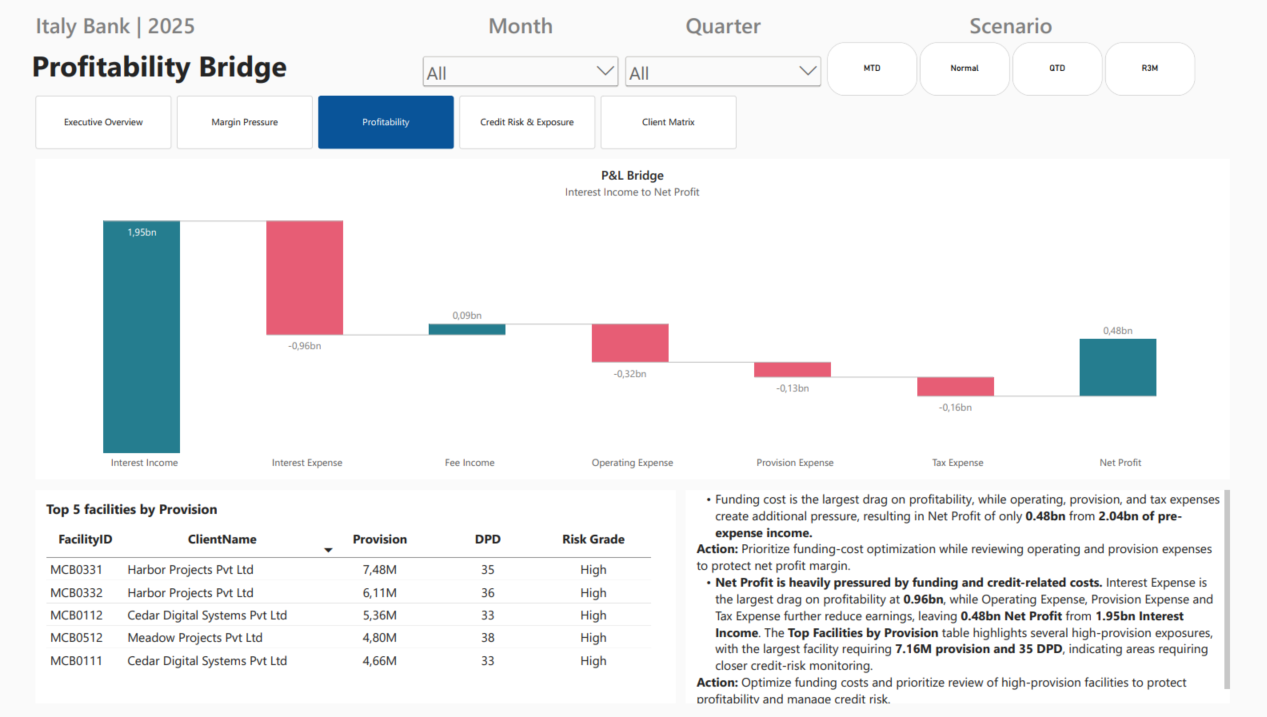

This screenshot's page, from the dashboard's own definition file:
{"tool":"powerbi","page":{"name":"Profitability","canvas":[1920,1080],"ordinal":2},"visuals":[{"type":"textbox","box":[64,16,272,48],"z":0},{"type":"textbox","box":[57.6,68.8,432,64],"z":1000},{"type":"advancedSlicerVisual","fields":{"Values":["Calculation group.Time period"]},"box":[1232,64,592,80],"z":2000},{"type":"textbox","box":[1424,16,208,48],"z":3000},{"type":"shape","box":[64,240,1792,480],"z":4000},{"type":"shape","box":[64,736,960,320],"z":5000},{"type":"shape","box":[1040,736,816,320],"z":6000},{"type":"slicer","fields":{"Values":["Dim_date.Quarter"]},"box":[944,80,304,64],"z":7000},{"type":"textbox","box":[992,16,208,48],"z":8000},{"type":"tableEx","title":"Top 5 facilities by Provision ","fields":{"Values":["Fact_Banking_Monthly.FacilityID","Dim_Client.ClientName","Measure.Provision Amount","Measure.Facility DPD","Measure.Risk Grade (Snapshot)"]},"box":[64,736,960,320],"z":9000},{"type":"slicer","fields":{"Values":["Dim_date.Month"]},"box":[640,80,304,64],"z":10000},{"type":"textbox","box":[688,16,208,48],"z":11000},{"type":"waterfallChart","title":"P&L Bridge","fields":{"Category":["Profitaility Bridge.Stage"],"Y":["Measure.Profitability Bridge Value"]},"box":[64,240,1792,480],"z":12000},{"type":"textbox","box":[1056,736,800,320],"z":13000},{"type":"pageNavigator","box":[64,144,1056,80],"z":14000}]}

Visuals, with their boxes in screenshot pixels (x1, y1, x2, y2), scaled from the page's 1920x1080 canvas onto the 1267x717 screenshot:
textbox: left=42, top=11, right=222, bottom=42
textbox: left=38, top=46, right=323, bottom=88
advancedSlicerVisual - Calculation group.Time period: left=813, top=42, right=1204, bottom=96
textbox: left=940, top=11, right=1077, bottom=42
shape: left=42, top=159, right=1225, bottom=478
shape: left=42, top=489, right=676, bottom=701
shape: left=686, top=489, right=1225, bottom=701
slicer - Dim_date.Quarter: left=623, top=53, right=824, bottom=96
textbox: left=655, top=11, right=792, bottom=42
"Top 5 facilities by Provision " tableEx: left=42, top=489, right=676, bottom=701
slicer - Dim_date.Month: left=422, top=53, right=623, bottom=96
textbox: left=454, top=11, right=591, bottom=42
"P&L Bridge" waterfallChart: left=42, top=159, right=1225, bottom=478
textbox: left=697, top=489, right=1225, bottom=701
pageNavigator: left=42, top=96, right=739, bottom=149
